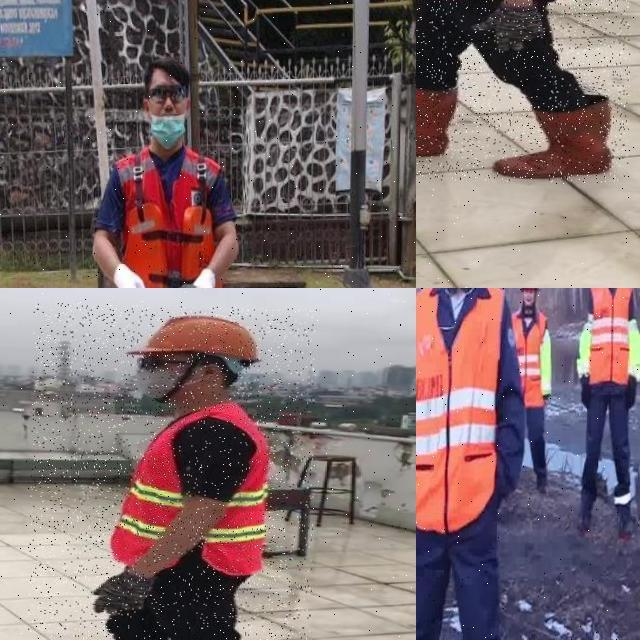boots: (494, 98, 614, 180), (416, 80, 454, 160)
helmet: (138, 310, 262, 360)
vest: (111, 400, 272, 574), (416, 288, 499, 531), (110, 145, 223, 288), (585, 288, 634, 389), (508, 308, 548, 409)
